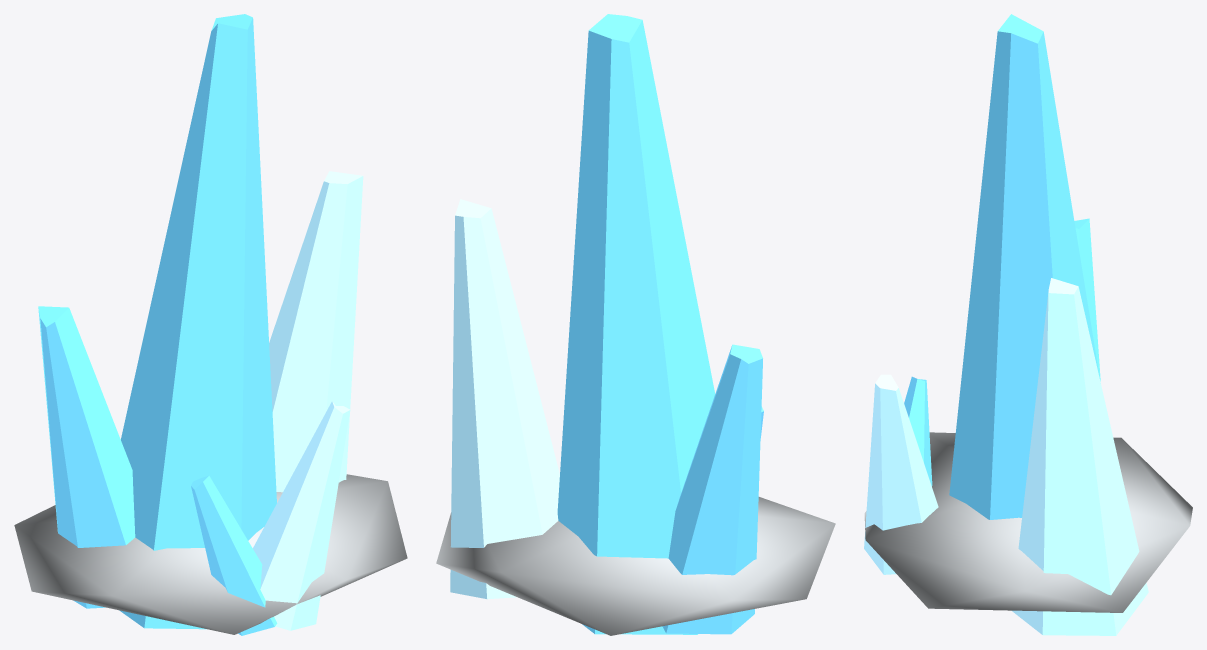
The model's file is hd_icecrystal.gltf.
The picture shows the model from 3 angles, left to right: view 1: azimuth 30°, elevation 25°; view 2: azimuth 150°, elevation 25°; view 3: azimuth 270°, elevation 25°; orthographic projection. The views are drawn at different scales.
Parts seen in each view (by area): view 1: cr0, snowBase, cr1, cr2, cr3, cr4; view 2: cr0, cr1, snowBase, cr2; view 3: cr0, cr1, snowBase, cr3, cr4, cr2.
Part boxes in pixels (box(x1,y1,x2,y2)): cr0: box(119, 14, 276, 629); snowBase: box(14, 474, 407, 634); cr1: box(269, 171, 363, 492); cr2: box(38, 306, 135, 608); cr3: box(253, 401, 350, 630); cr4: box(191, 475, 277, 635); cr0: box(557, 14, 715, 634); cr1: box(450, 199, 559, 599); snowBase: box(436, 497, 835, 635); cr2: box(662, 344, 762, 634); cr0: box(949, 14, 1099, 519); cr1: box(1012, 278, 1148, 635); snowBase: box(864, 432, 1192, 612); cr3: box(864, 374, 938, 574); cr4: box(904, 376, 932, 486); cr2: box(1074, 218, 1100, 381).
Bounding box in the file's own units: 1.25 × 1.94 × 1.03.
